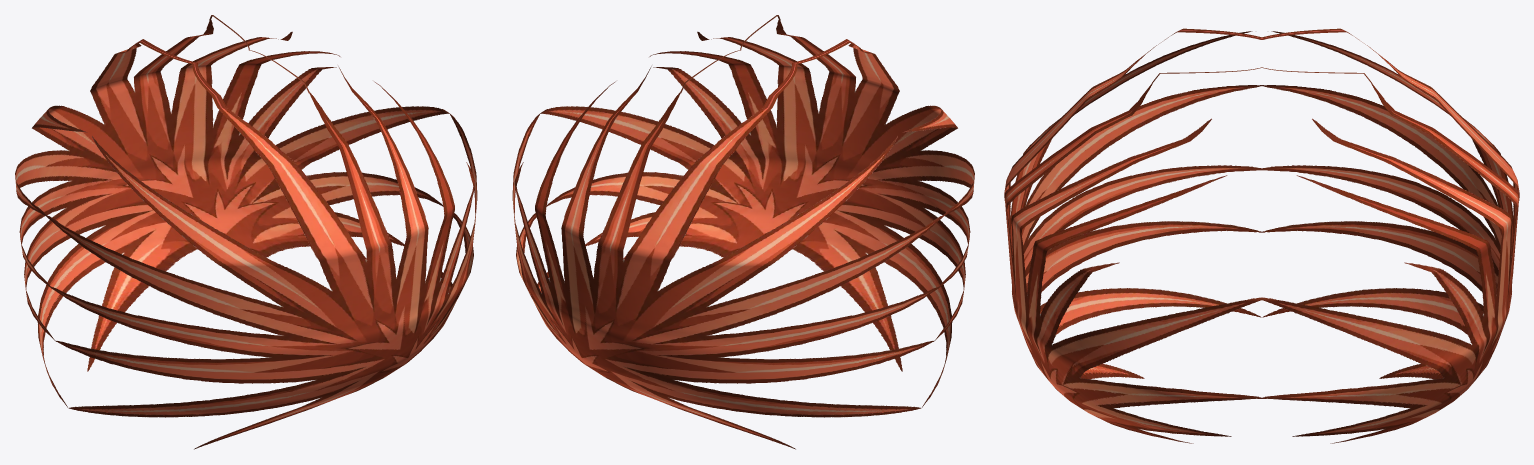
Rendered from coral_rosette.glb.
3 renders of one model, left to right at view 1: azimuth 30°, elevation 25°; view 2: azimuth 150°, elevation 25°; view 3: azimuth 270°, elevation 25°, orthographic. The views are drawn at different scales.
Visible parts, largest first — view 1: coral_rosette; view 2: coral_rosette; view 3: coral_rosette.
Boxes of the visible parts, <box> form: coral_rosette: <box>15,15,477,449</box>; coral_rosette: <box>512,15,974,449</box>; coral_rosette: <box>1004,28,1519,443</box>.
Bounding box in the file's own units: 1 × 0.7903 × 0.9995.
Materials: 1 (1 with a texture image).
